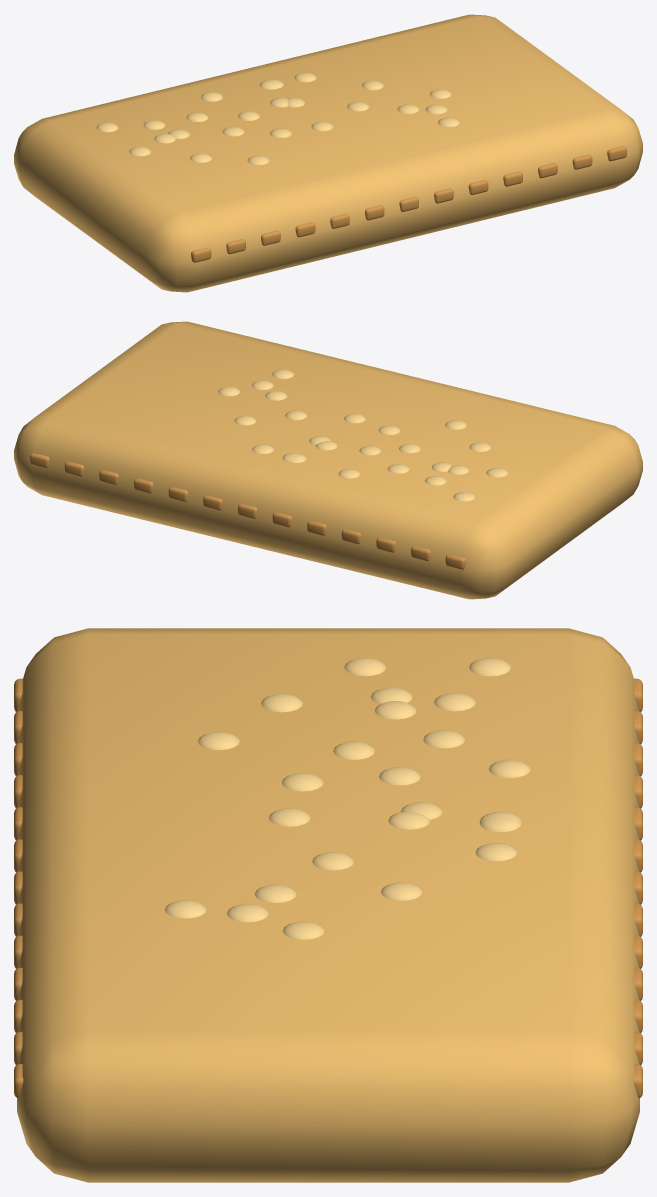
Rendered from dish_pastel.glb.
The picture shows the model from 3 angles, top to bottom: view 1: azimuth 30°, elevation 25°; view 2: azimuth 150°, elevation 25°; view 3: azimuth 270°, elevation 25°; orthographic projection. The views are drawn at different scales.
Parts seen in each view (by area): view 1: dish_pastel; view 2: dish_pastel; view 3: dish_pastel.
Boxes of the visible parts, x1,y1,x2,y2 form: dish_pastel: [14, 14, 642, 292]; dish_pastel: [14, 321, 642, 599]; dish_pastel: [14, 628, 642, 1182].
Size of the model in its own units: 0.182 by 0.028 by 0.106.
